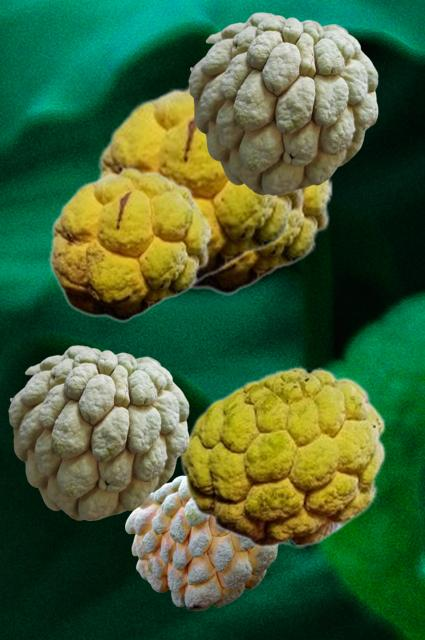atis: (94, 83, 308, 282), (179, 366, 385, 547), (188, 12, 377, 194), (8, 345, 188, 519), (48, 166, 211, 321), (125, 475, 278, 609), (189, 176, 332, 294)
